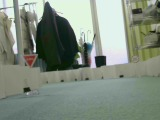stop: (21, 53, 39, 69)
